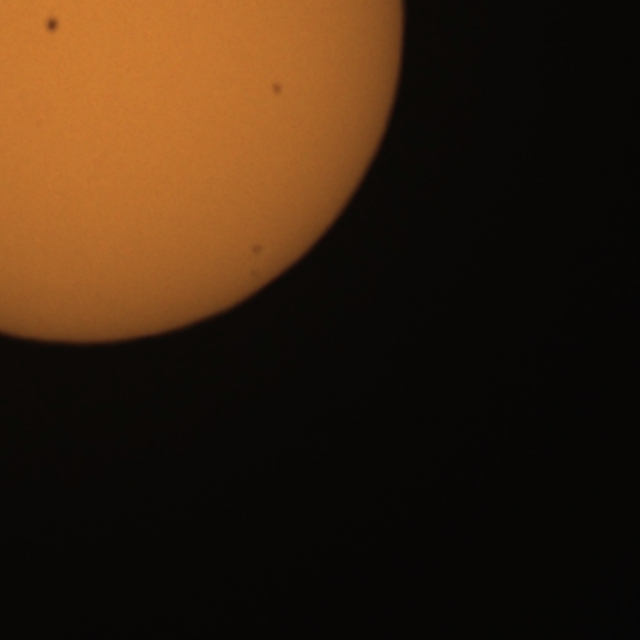sunspot: (43, 14, 61, 36), (248, 242, 265, 259), (270, 80, 285, 99)
